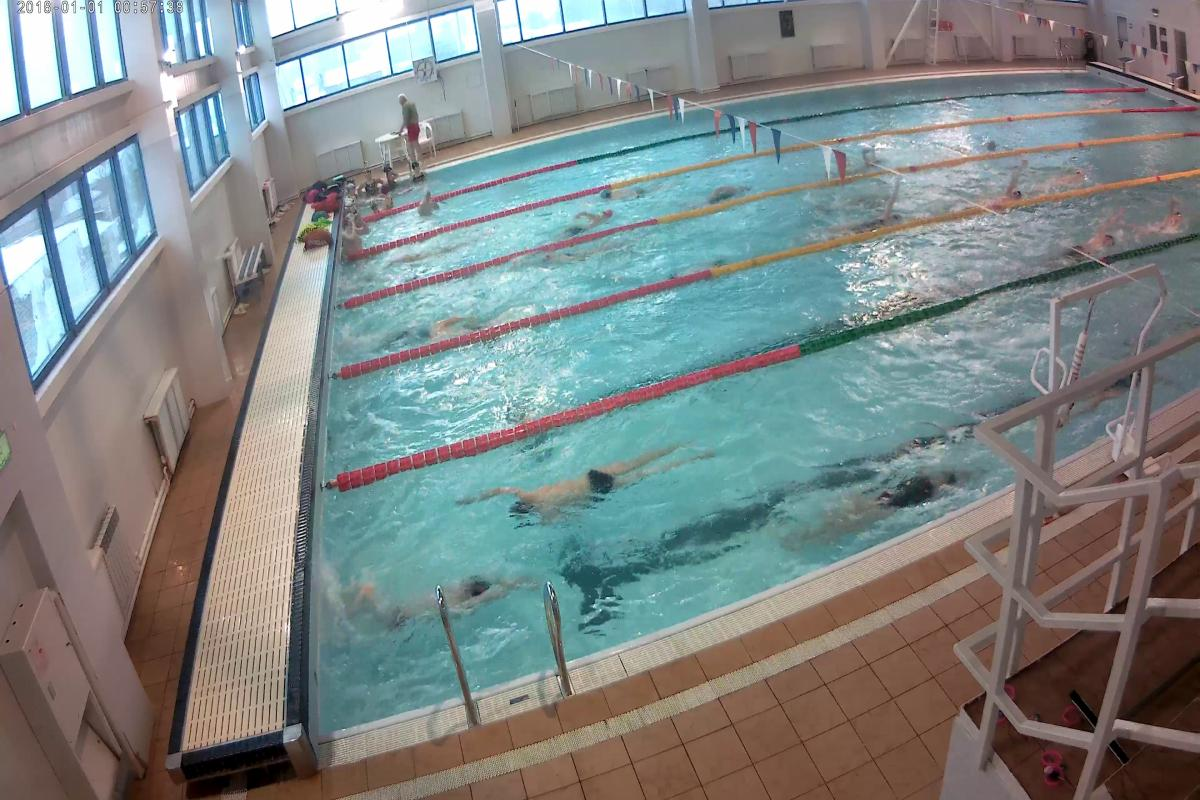swimmer: (480, 434, 731, 545), (794, 462, 955, 540), (354, 567, 505, 630), (1045, 220, 1119, 262), (980, 164, 1034, 206), (848, 188, 908, 223), (1041, 158, 1095, 191), (1148, 192, 1190, 234), (417, 316, 486, 340), (701, 176, 750, 200), (570, 208, 612, 234), (415, 190, 446, 221), (602, 185, 648, 202)
